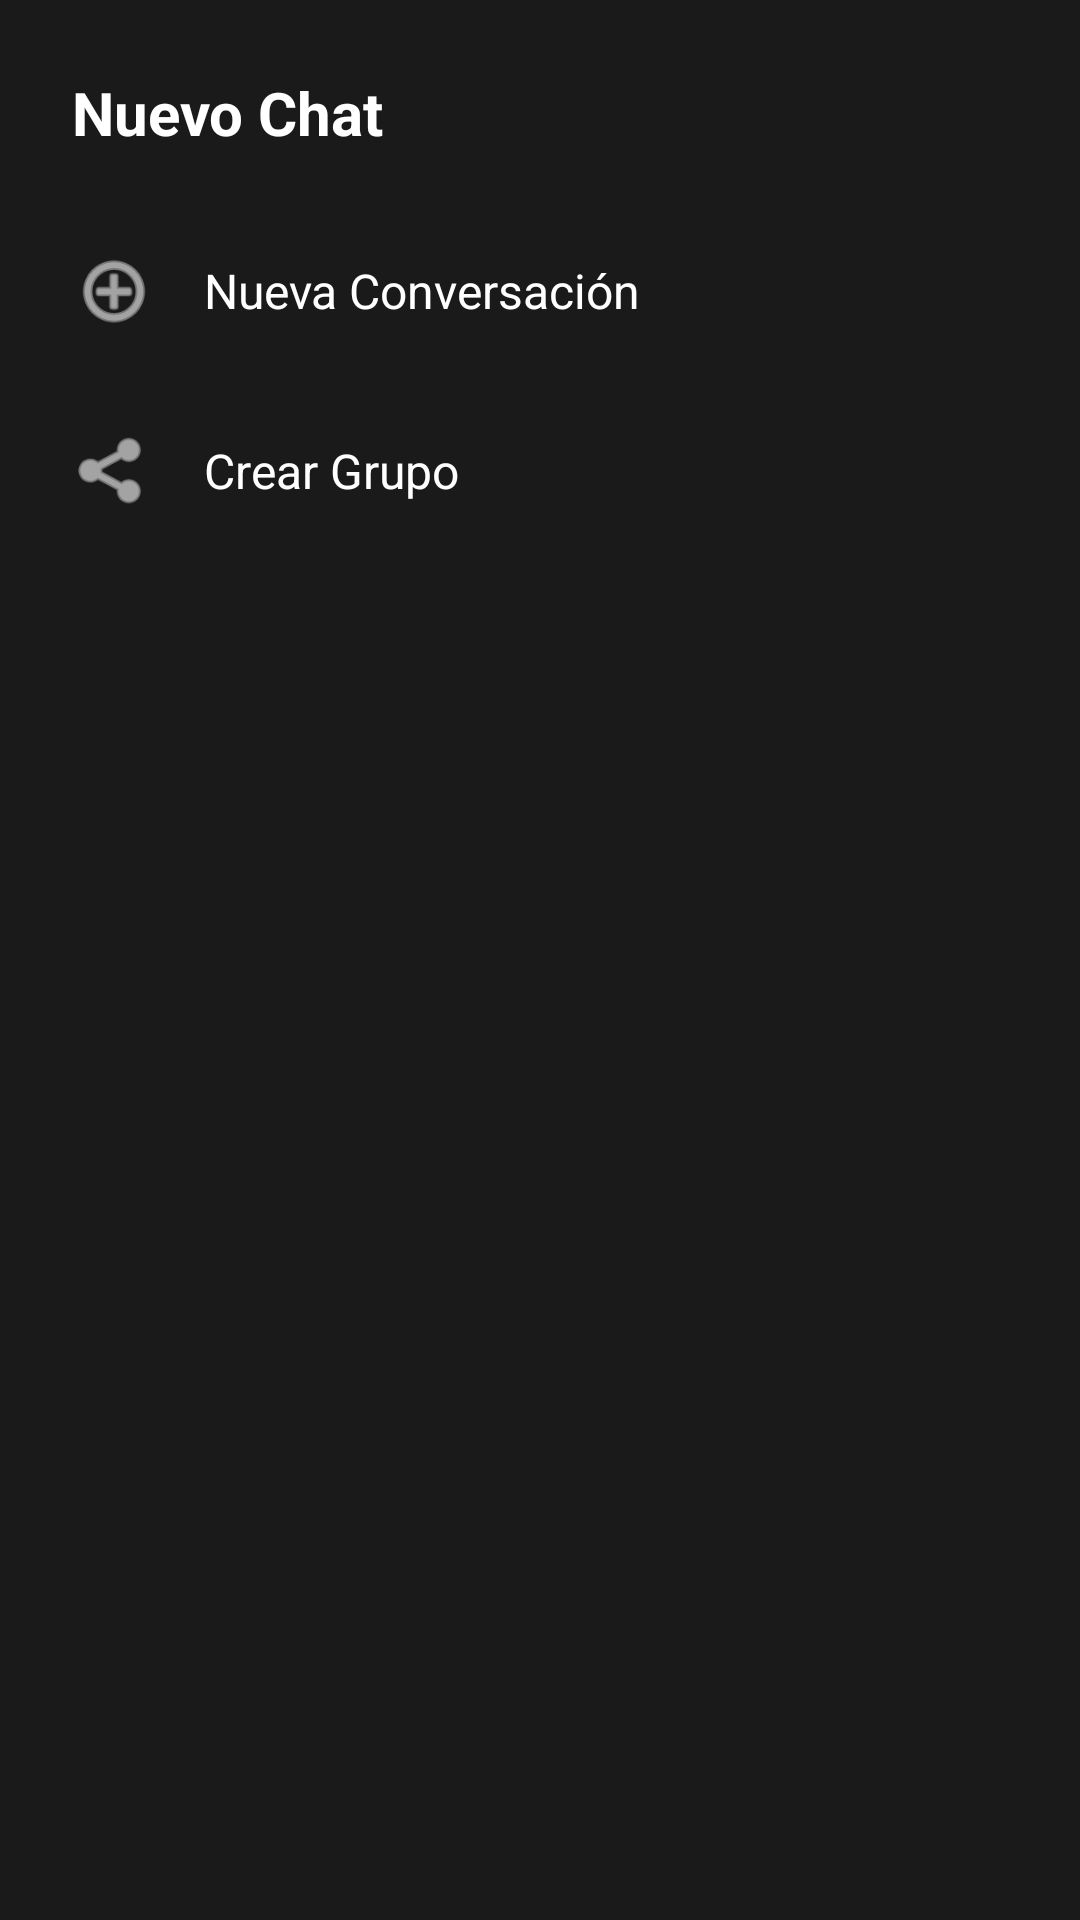

Where icons sit on this 1080w x 1920h app screen, as (x1, y1, x2, y2):
add: (83, 260, 145, 323)
share: (78, 438, 141, 503)
